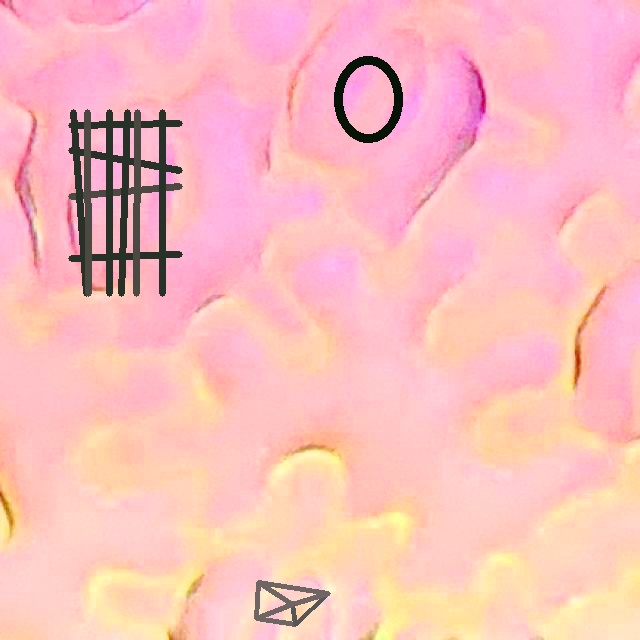close: (68, 109, 182, 296), (333, 55, 403, 143), (254, 581, 329, 626)
